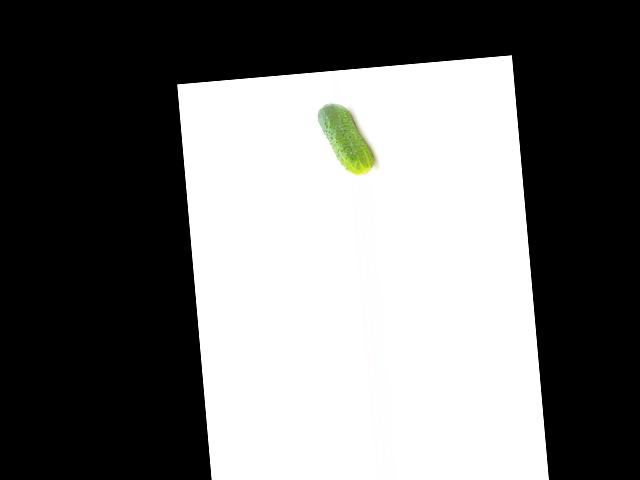cucumber: (316, 100, 375, 178)
